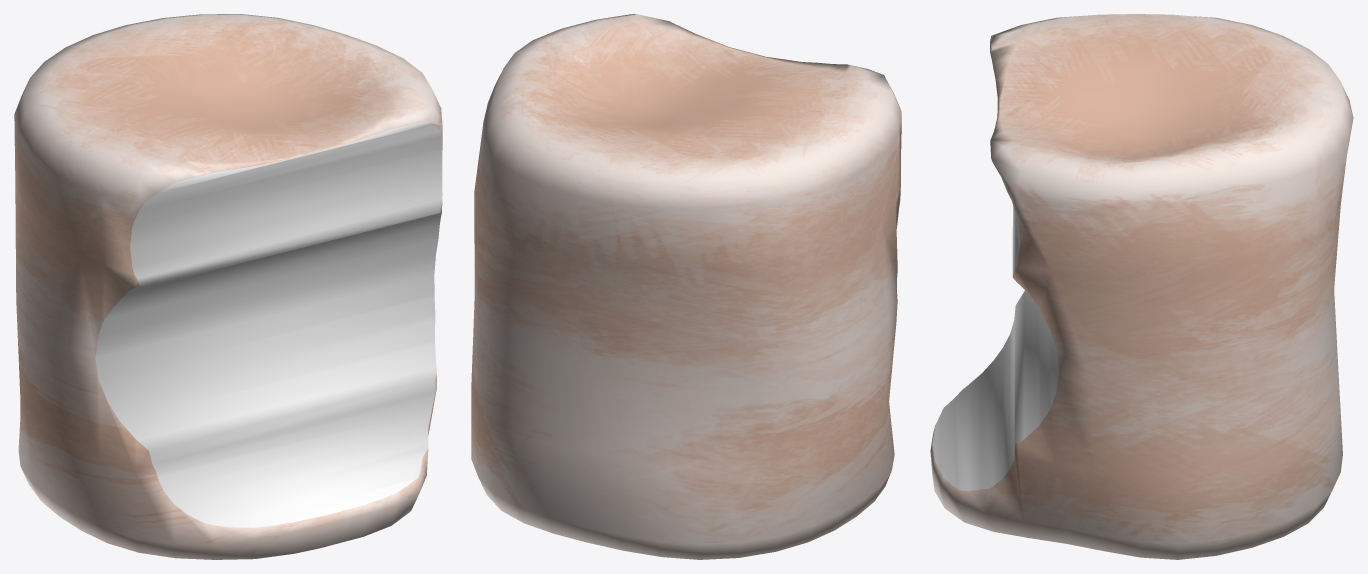
The model's file is Marshmallow 1 Bites.fbx.
The picture shows the model from 3 angles, left to right: view 1: azimuth 30°, elevation 25°; view 2: azimuth 150°, elevation 25°; view 3: azimuth 270°, elevation 25°; orthographic projection.
Visible parts, largest first — view 1: Marshmallow__1_1-Bite; view 2: Marshmallow__1_1-Bite; view 3: Marshmallow__1_1-Bite.
Boxes of the visible parts, <box> form: Marshmallow__1_1-Bite: <box>14,14,442,559</box>; Marshmallow__1_1-Bite: <box>471,14,901,559</box>; Marshmallow__1_1-Bite: <box>930,14,1353,559</box>.
Bounding box in the file's own units: 6.06 × 6.24 × 6.02.
